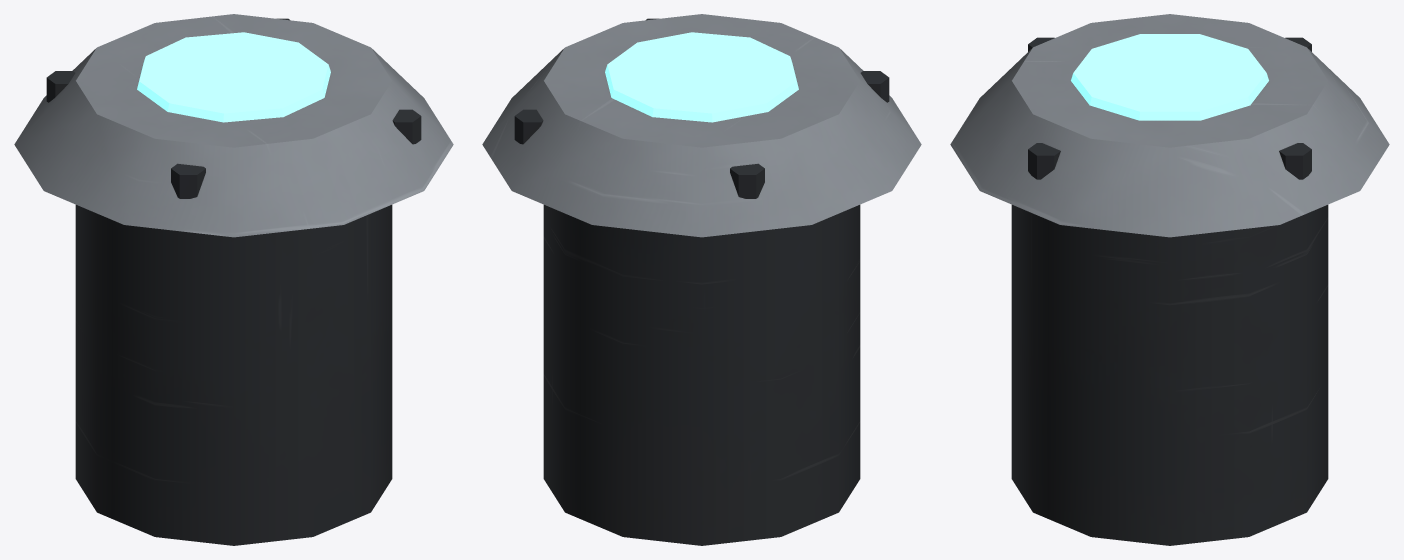
The model's file is luz_baliza_hangar.fbx.
3 views of the same model, side by side, from view 1: azimuth 30°, elevation 25°; view 2: azimuth 150°, elevation 25°; view 3: azimuth 270°, elevation 25° (orthographic).
Parts seen in each view (by area): view 1: luz_baliza_hangar, luz_baliza_hangar_lente_neon; view 2: luz_baliza_hangar, luz_baliza_hangar_lente_neon; view 3: luz_baliza_hangar, luz_baliza_hangar_lente_neon.
Part boxes in pixels (x1,y1,x2,y2): luz_baliza_hangar: [14, 14, 453, 545]; luz_baliza_hangar_lente_neon: [137, 32, 330, 122]; luz_baliza_hangar: [482, 14, 921, 545]; luz_baliza_hangar_lente_neon: [605, 32, 798, 122]; luz_baliza_hangar: [950, 14, 1389, 545]; luz_baliza_hangar_lente_neon: [1071, 34, 1268, 120].
Bounding box in the file's own units: 0.5 × 0.51 × 0.5.
2 materials, 1 textured.
